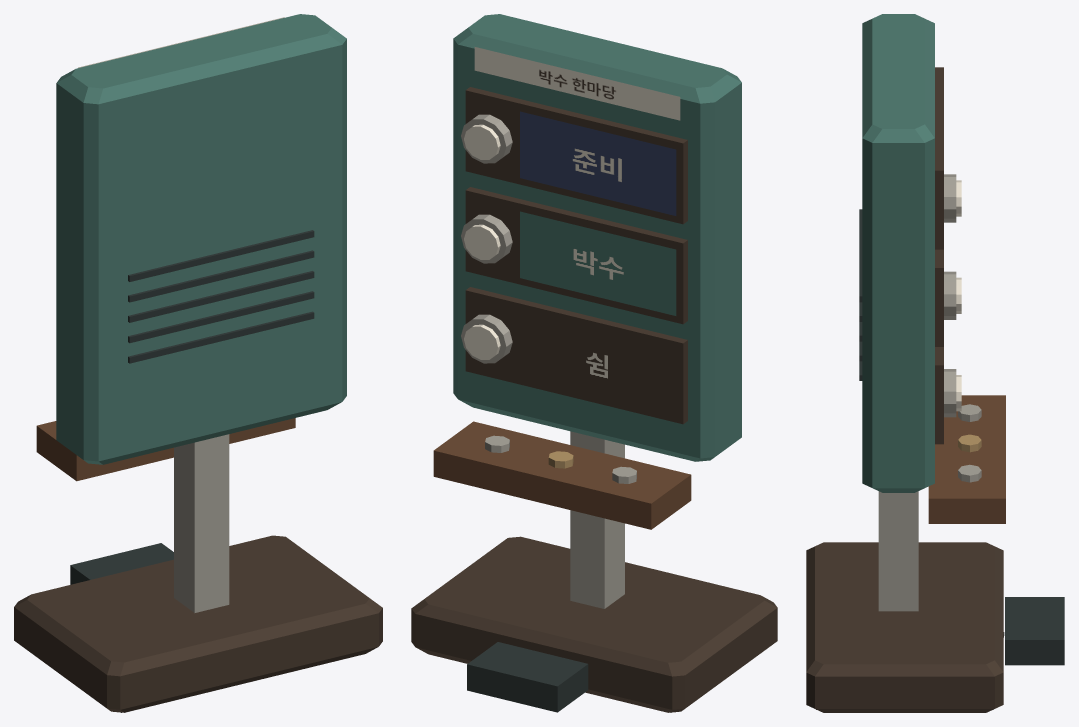
File: P10_Applause_Cue_Tower.fbx
The picture shows the model from 3 angles, left to right: view 1: azimuth 30°, elevation 25°; view 2: azimuth 150°, elevation 25°; view 3: azimuth 270°, elevation 25°; orthographic projection. The views are drawn at different scales.
Visible parts, largest first — view 1: Structure; view 2: Structure, Cue_03, Cue_02, Cue_01, Title, Lamp_03, Lamp_01, Lamp_02; view 3: Structure, Cue_01, Cue_02, Cue_03, Lamp_01, Lamp_02, Lamp_03.
Part boxes in pixels (bbox=[...]): Structure: bbox=[14, 14, 382, 712]; Structure: bbox=[411, 14, 777, 712]; Cue_03: bbox=[465, 287, 687, 424]; Cue_02: bbox=[465, 187, 687, 324]; Cue_01: bbox=[465, 87, 687, 224]; Title: bbox=[474, 47, 680, 120]; Lamp_03: bbox=[461, 314, 512, 363]; Lamp_01: bbox=[461, 114, 512, 163]; Lamp_02: bbox=[461, 214, 512, 263]; Structure: bbox=[806, 14, 1064, 712]; Cue_01: bbox=[935, 67, 943, 249]; Cue_02: bbox=[935, 249, 943, 346]; Cue_03: bbox=[935, 347, 943, 444]; Lamp_01: bbox=[944, 174, 961, 222]; Lamp_02: bbox=[944, 271, 961, 319]; Lamp_03: bbox=[944, 369, 961, 417].
Size of the model in its own units: 1.25 by 2.6 by 1.05.
Materials: 8 (1 with a texture image).
